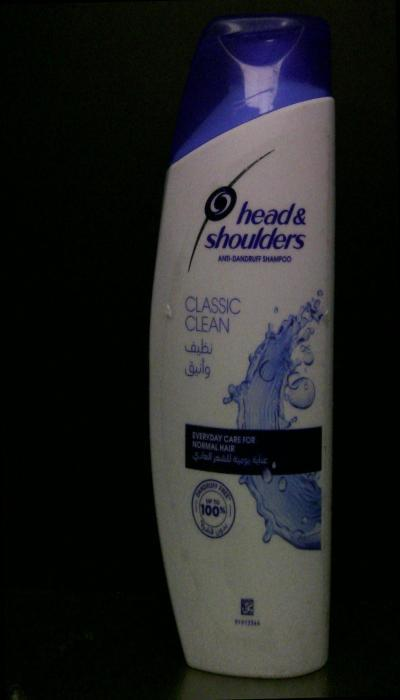tear_marg: (150, 284, 188, 332)
